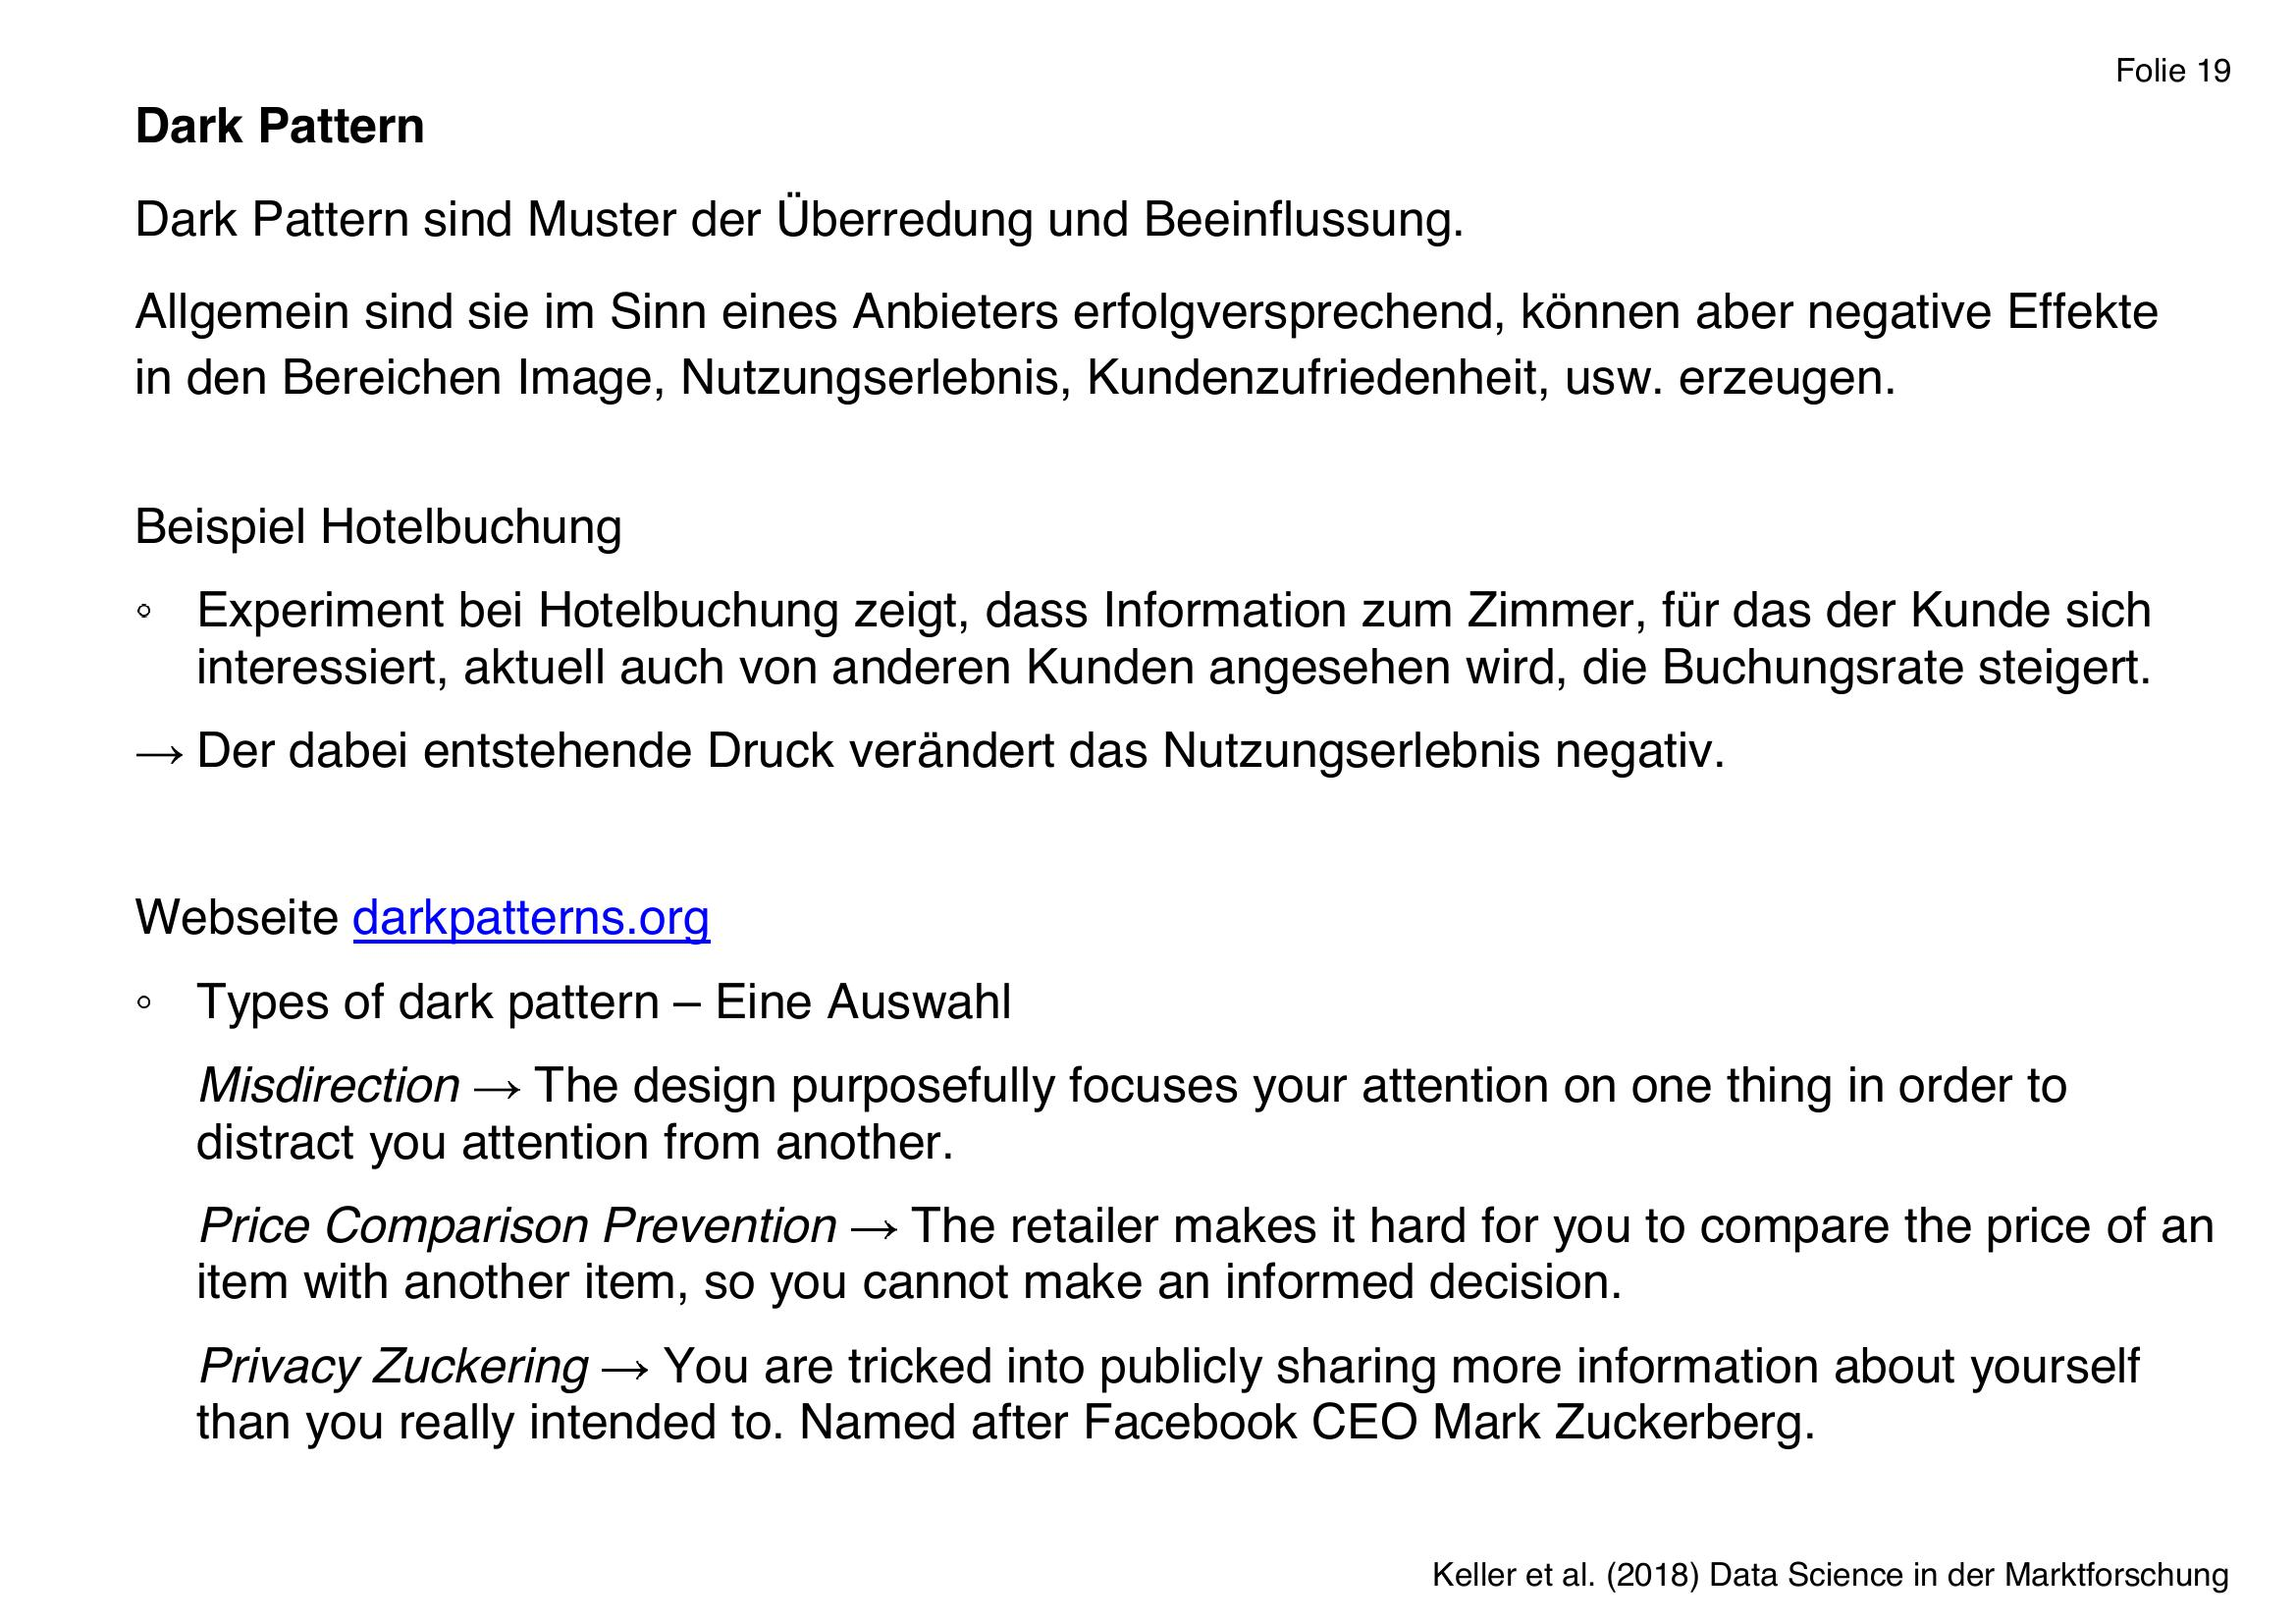Title: (104, 81, 434, 156)
